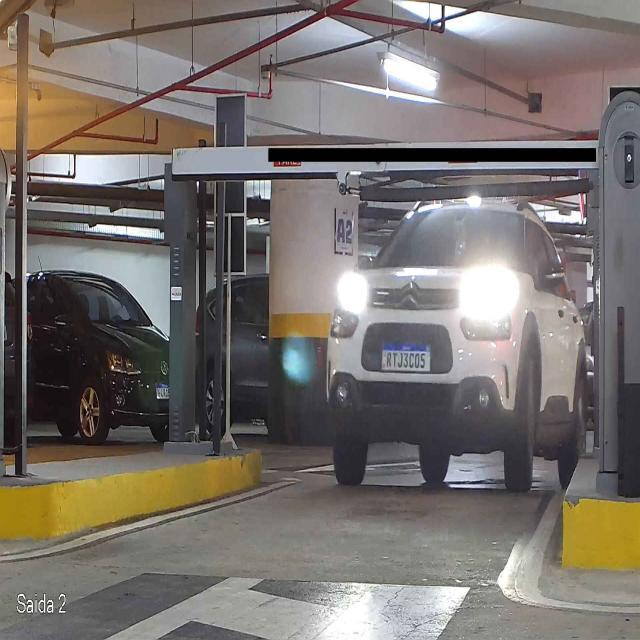mercosul_plate: (378, 341, 434, 373)
